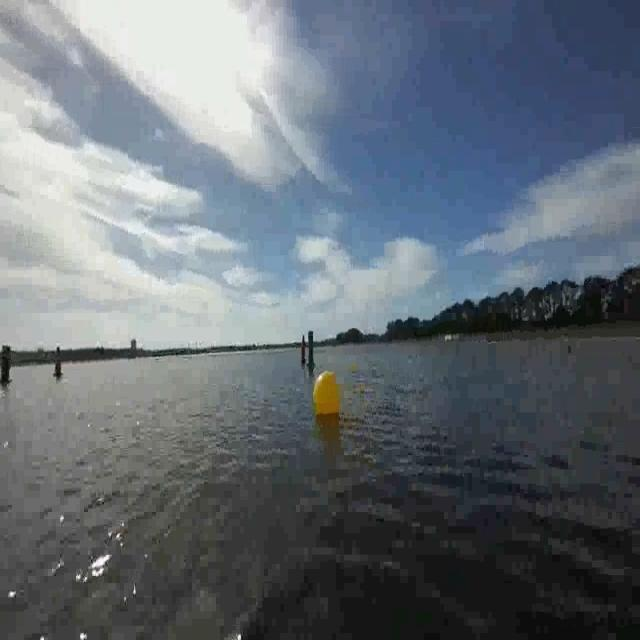green-column-buoy: (0, 344, 14, 384), (304, 331, 314, 369)
red-column-buoy: (298, 337, 306, 368), (55, 357, 64, 377)
yellow-buoy: (311, 368, 340, 417)
